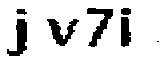7: (85, 4, 115, 49)
i: (119, 6, 137, 50)
j: (5, 5, 32, 60)
v: (43, 16, 78, 53)
